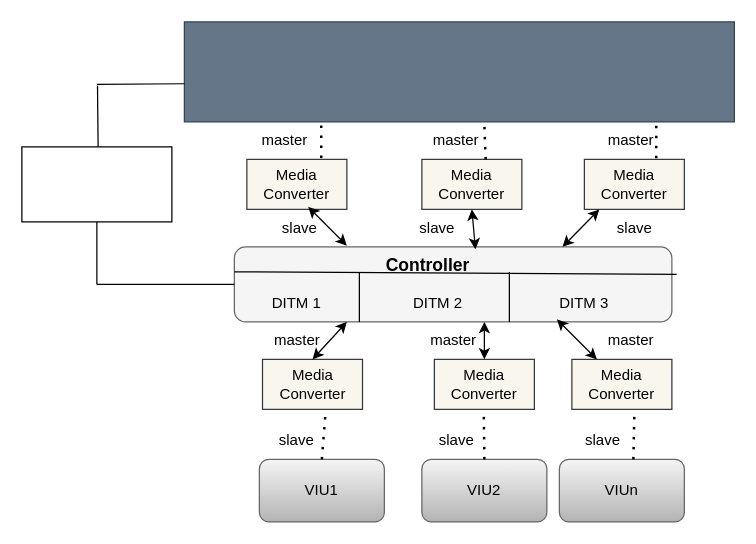
Image size: 756x544. Some labels were removed from this diagram. The box of each missing label's shape, as (x1, y1, x2, y2) in pixels:
Server with test framework: (21, 146, 172, 222)
VCU: (183, 21, 734, 122)
